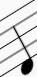note: (7, 12, 35, 75)
